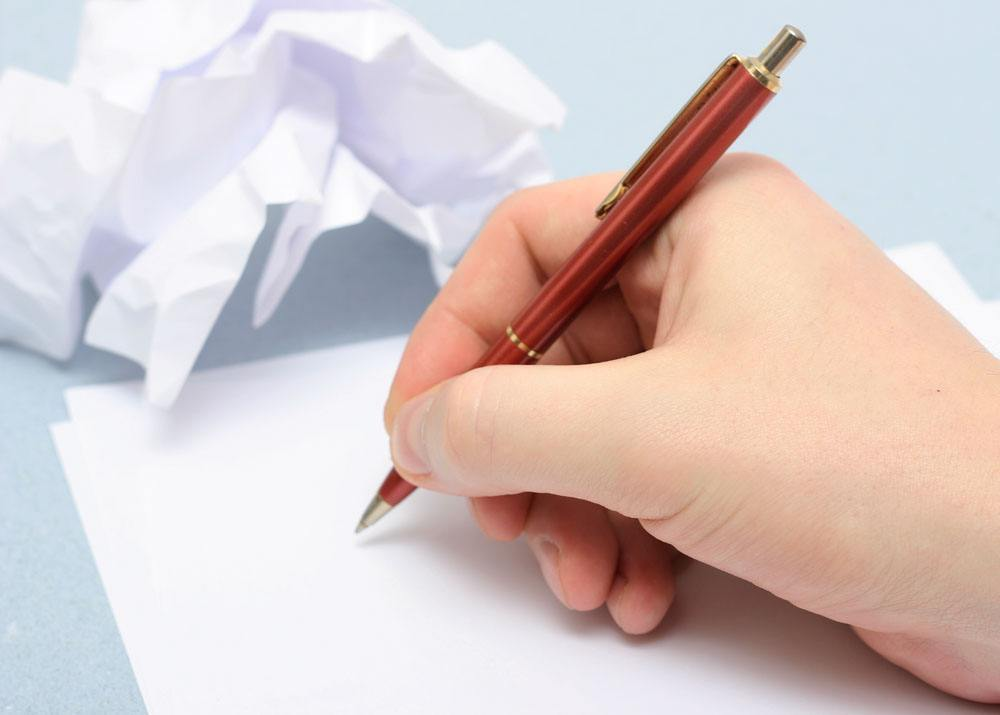no-phone: (347, 88, 997, 668)
